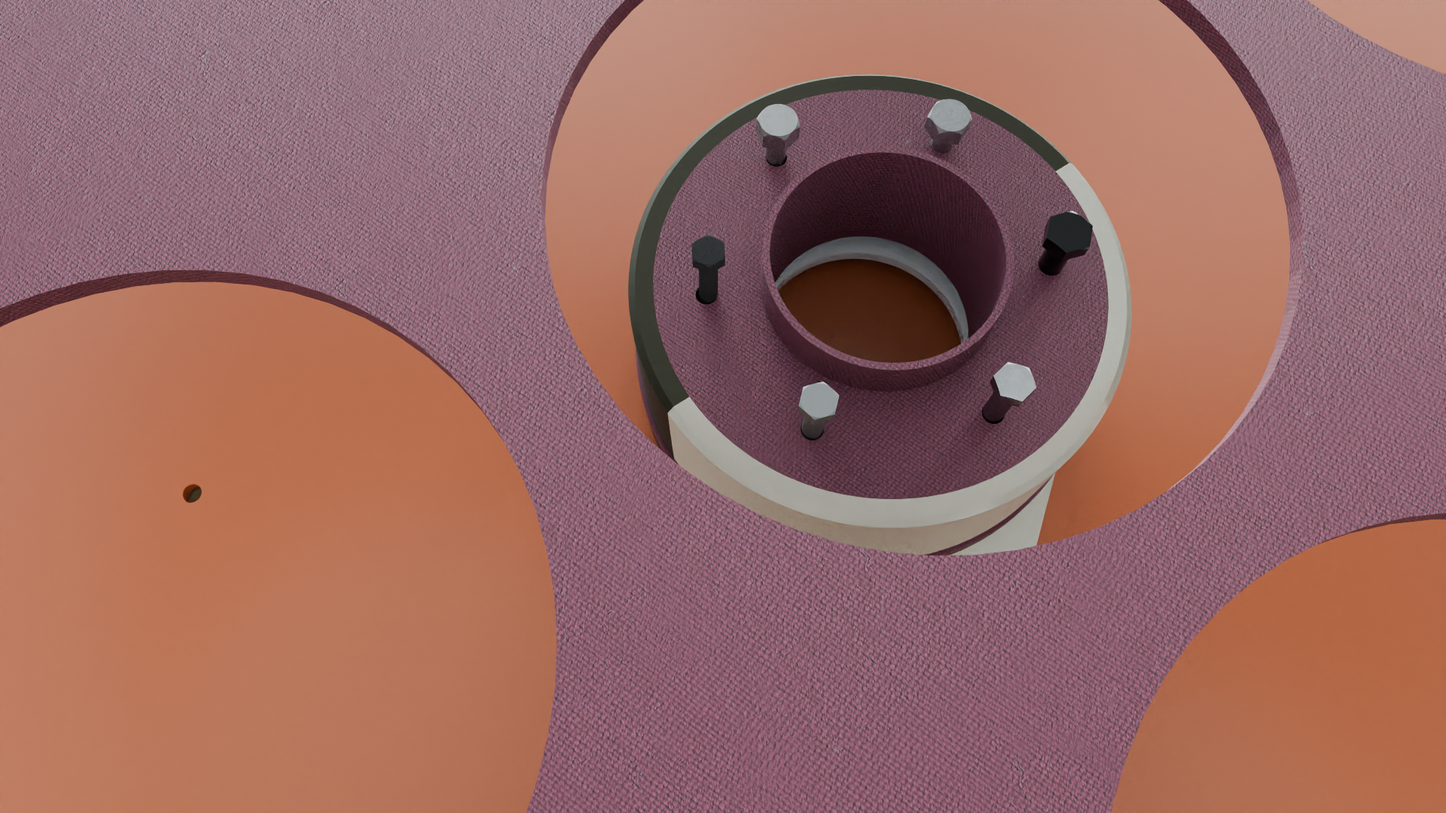bolt: (1047, 211, 1093, 253), (993, 362, 1036, 401), (756, 104, 800, 141), (927, 99, 972, 135), (799, 382, 839, 420), (691, 235, 725, 268)
